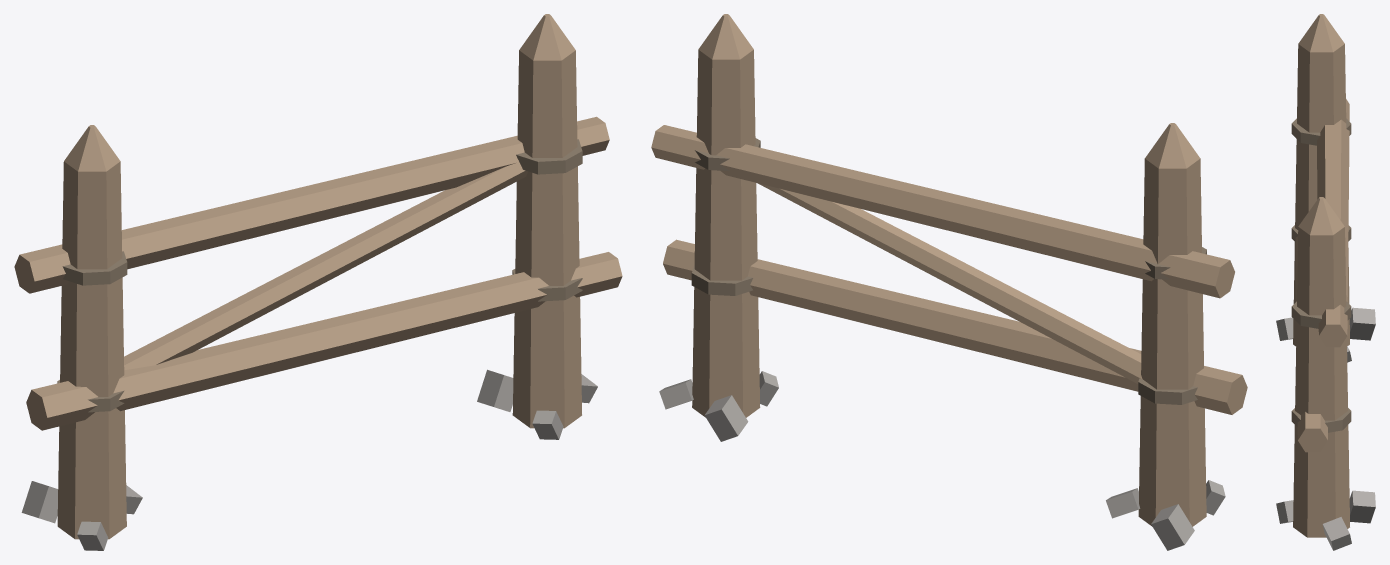
Rendered from fence.glb.
The picture shows the model from 3 angles, left to right: view 1: azimuth 30°, elevation 25°; view 2: azimuth 150°, elevation 25°; view 3: azimuth 270°, elevation 25°; orthographic projection. The views are drawn at different scales.
Parts seen in each view (by area): view 1: Fence_Timber, Fence_Stones, Fence_Lashings; view 2: Fence_Timber, Fence_Stones, Fence_Lashings; view 3: Fence_Timber, Fence_Stones, Fence_Lashings.
Part boxes in pixels (x1,y1,x2,y2): Fence_Timber: [14, 14, 622, 539]; Fence_Stones: [21, 369, 597, 550]; Fence_Lashings: [57, 139, 582, 412]; Fence_Timber: [651, 14, 1247, 526]; Fence_Stones: [659, 371, 1225, 550]; Fence_Lashings: [691, 138, 1206, 404]; Fence_Timber: [1293, 14, 1349, 537]; Fence_Stones: [1276, 307, 1375, 550]; Fence_Lashings: [1291, 118, 1351, 432].
Bounding box in the file's own units: 3.8 × 2.57 × 0.6923.
